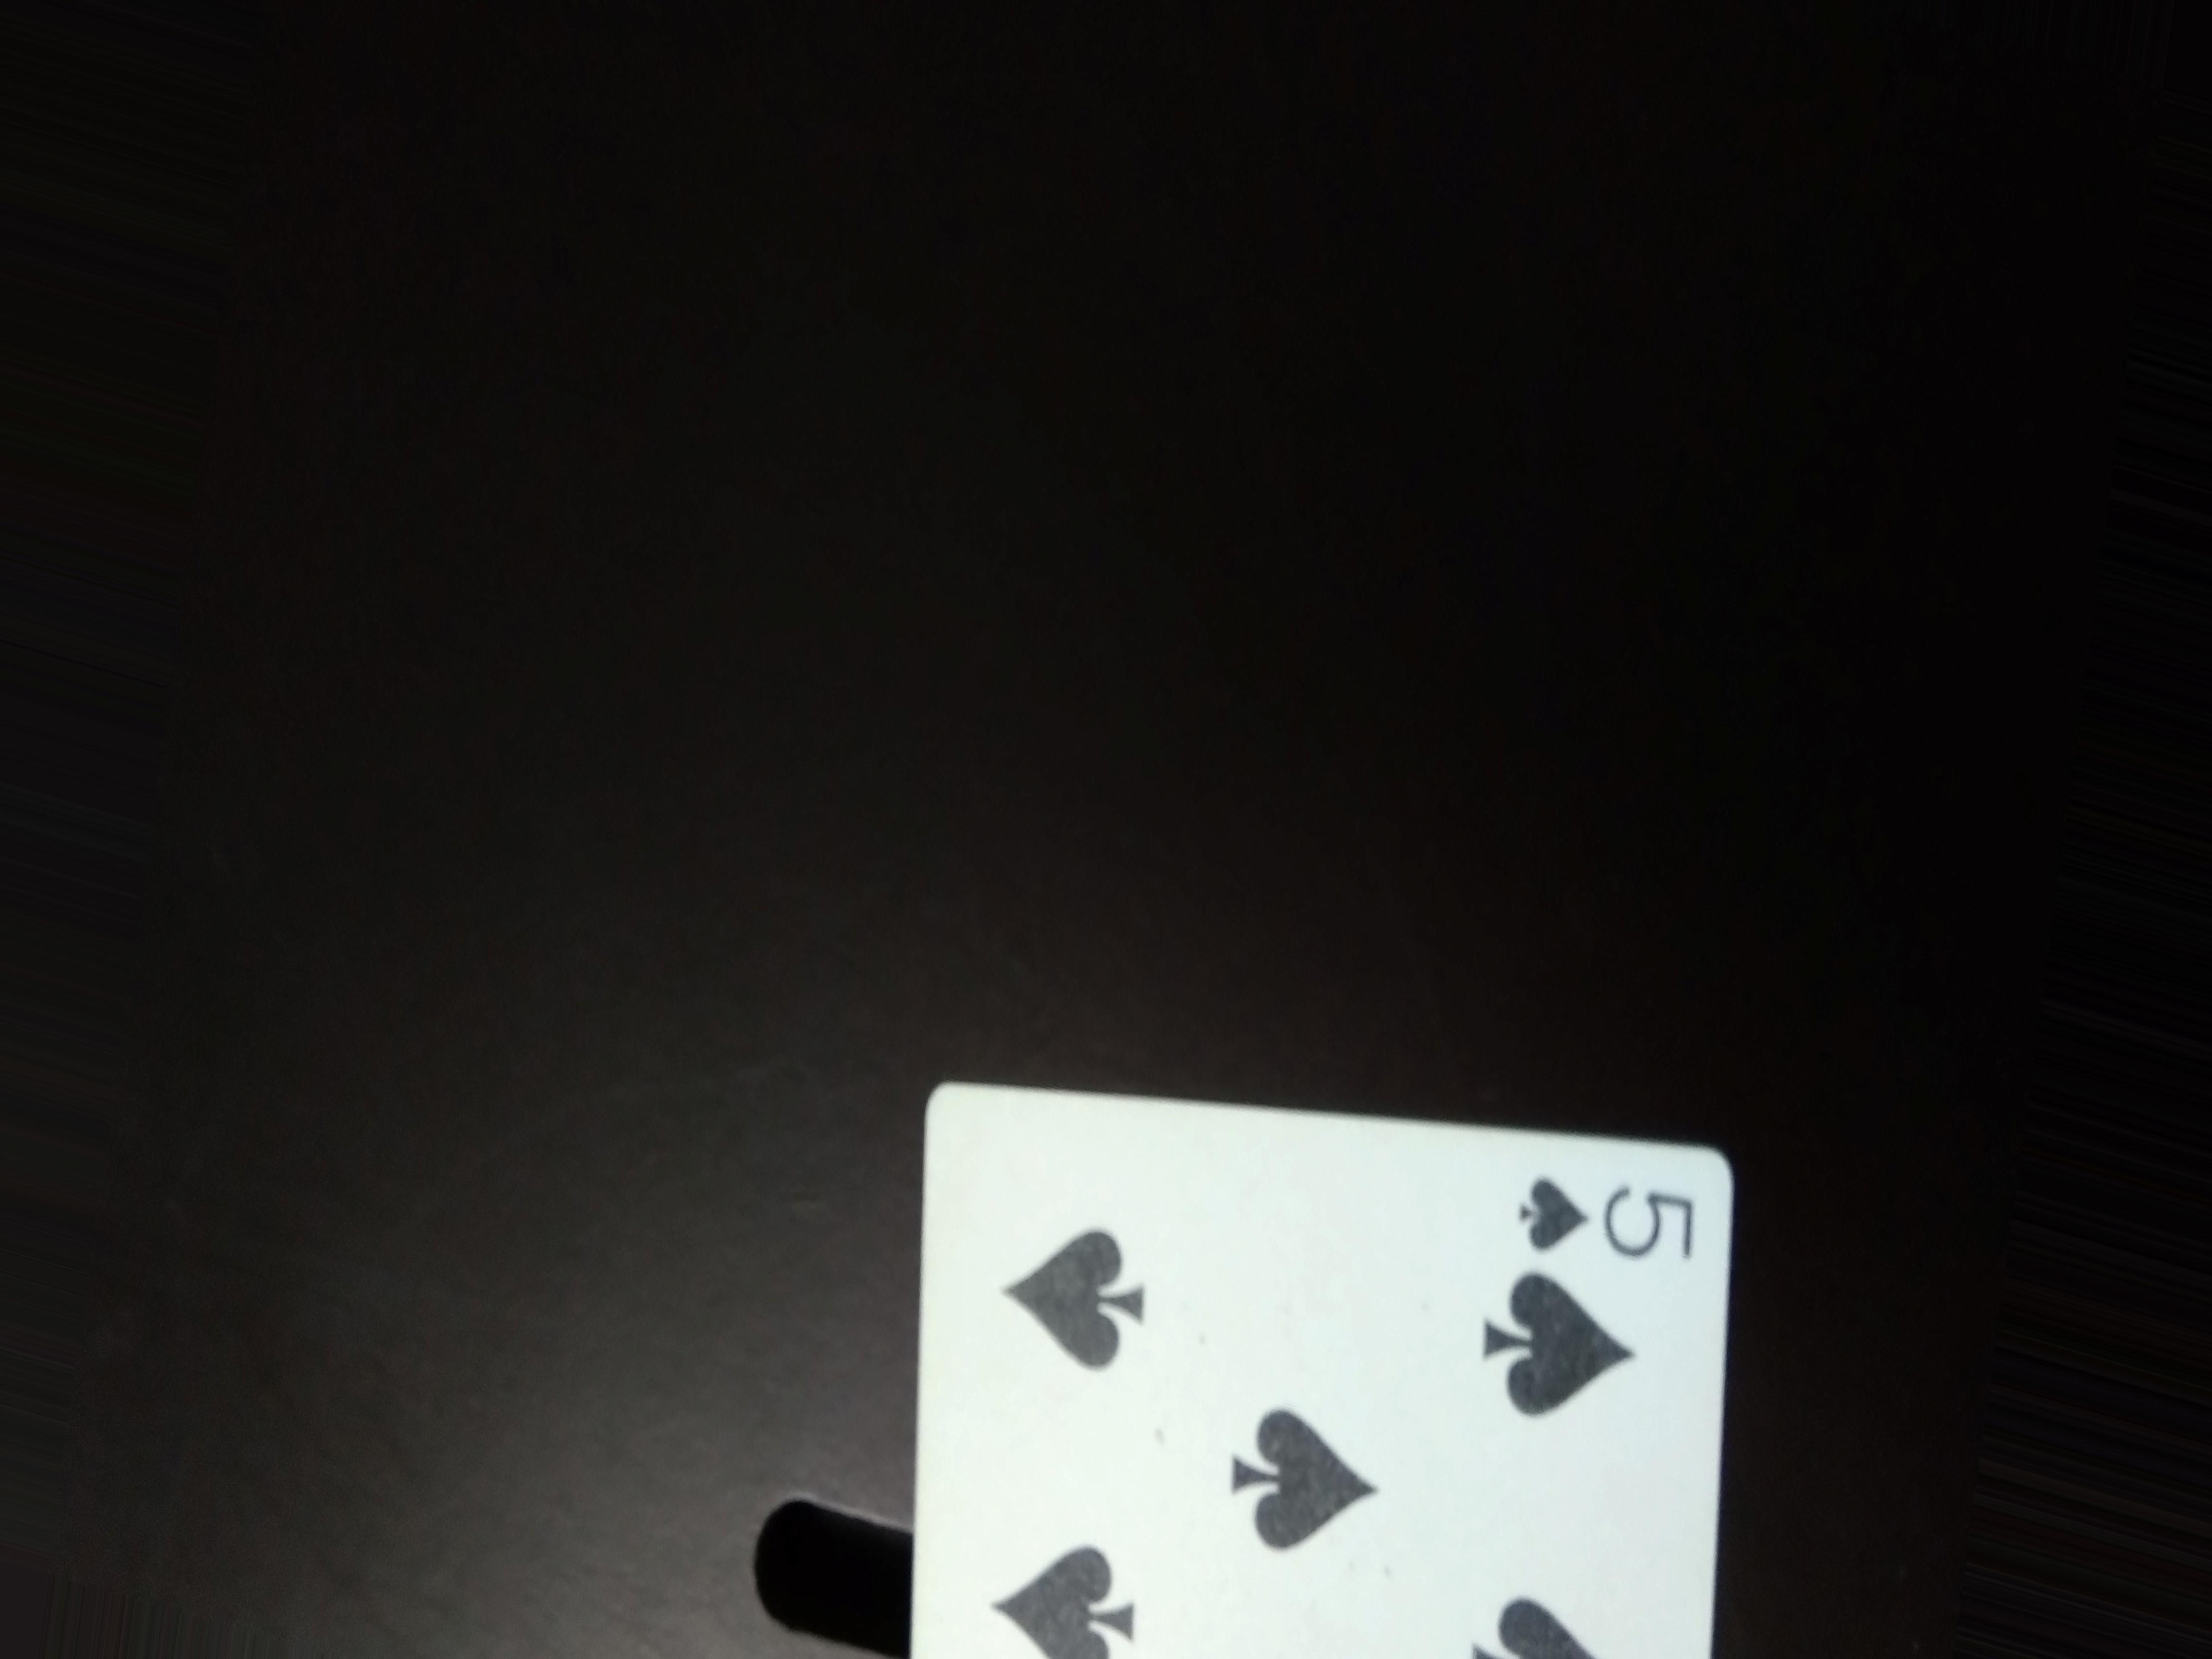5S: (1489, 1164, 1703, 1279)
